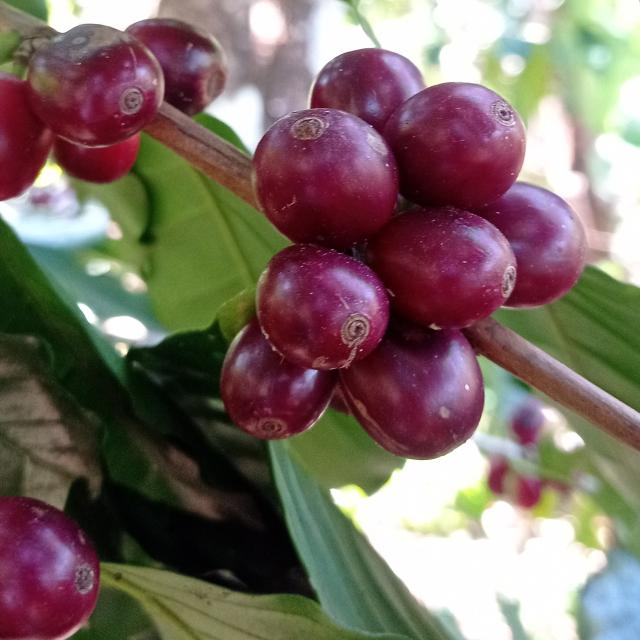red: (340, 316, 485, 460), (253, 108, 399, 250), (364, 207, 517, 330), (384, 82, 526, 210), (25, 23, 164, 147), (256, 244, 390, 371), (220, 317, 337, 441), (0, 498, 99, 640), (478, 181, 588, 308), (126, 18, 227, 115), (311, 47, 425, 132), (0, 71, 54, 200), (53, 132, 140, 183)
